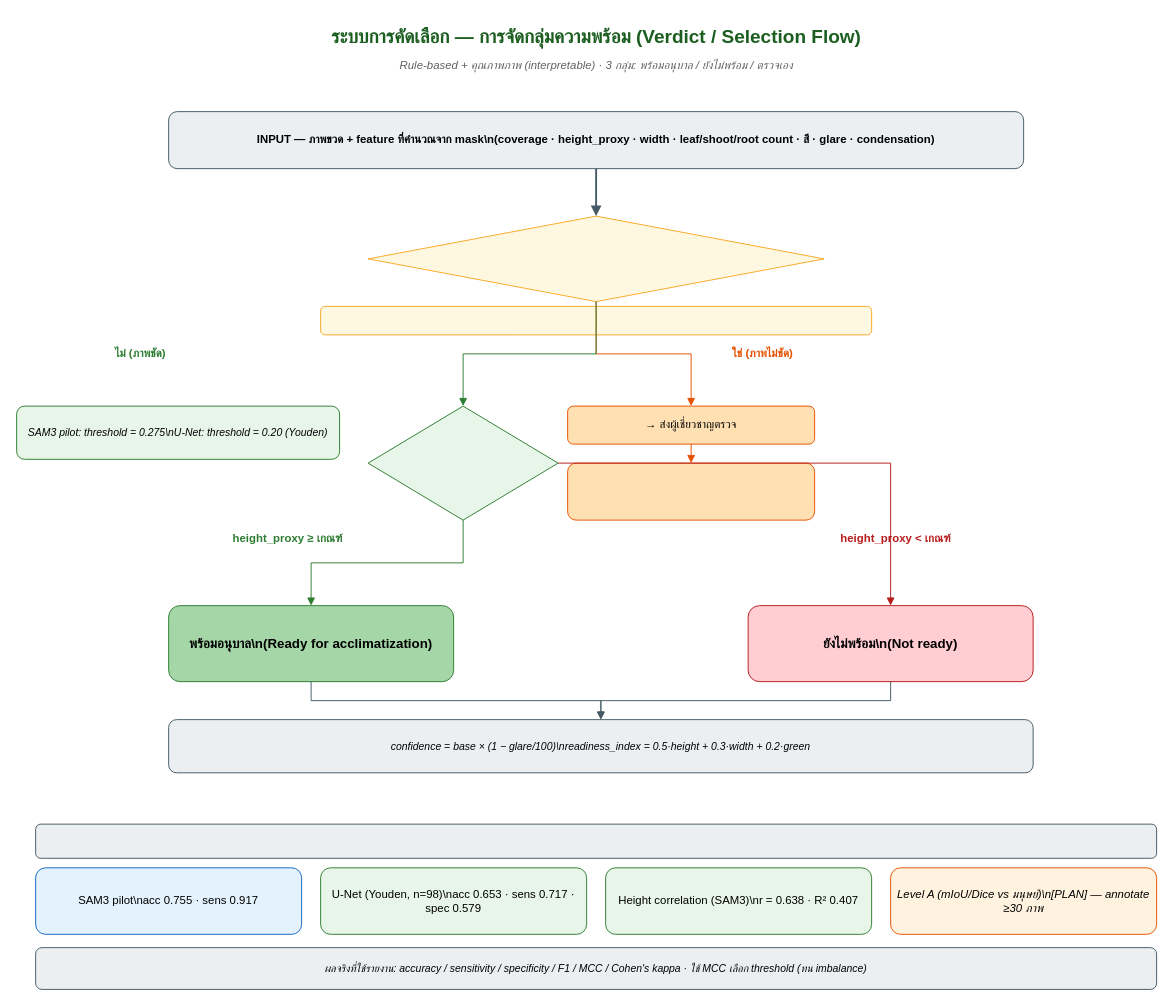
The diagram is 1173 pixels wide and 1006 high, and some of its shapes have lost their labels. The shapes that lost their labels are listed below. From the top down, each one's centre as x and y in pixels, then its label:
At (x=595, y=258): "เกตคุณภาพภาพ (Quality Gate) — ภาพชัดไหม?".
At (x=596, y=320): "glare_score > 40 หรือ condensation_score > 40 หรือ ไม่พบขวด (ROI)".
At (x=462, y=462): "ความสูงของต้น\nheight_proxy ≥ เกณฑ์ (ready)?".
At (x=691, y=491): "ตรวจเอง (manual / human)\n— ไม่ตัดสินใจอัตโนมัติ".
At (x=596, y=840): "ตัวชี้วัด / ผลจริง (Validation & Results)".
